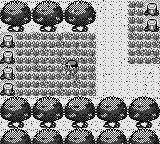captura: (16, 33, 96, 97), (128, 0, 159, 64)
main: (65, 61, 78, 73)
no-caminable: (1, 97, 159, 143), (1, 2, 96, 32), (0, 33, 15, 96), (144, 2, 159, 32)
